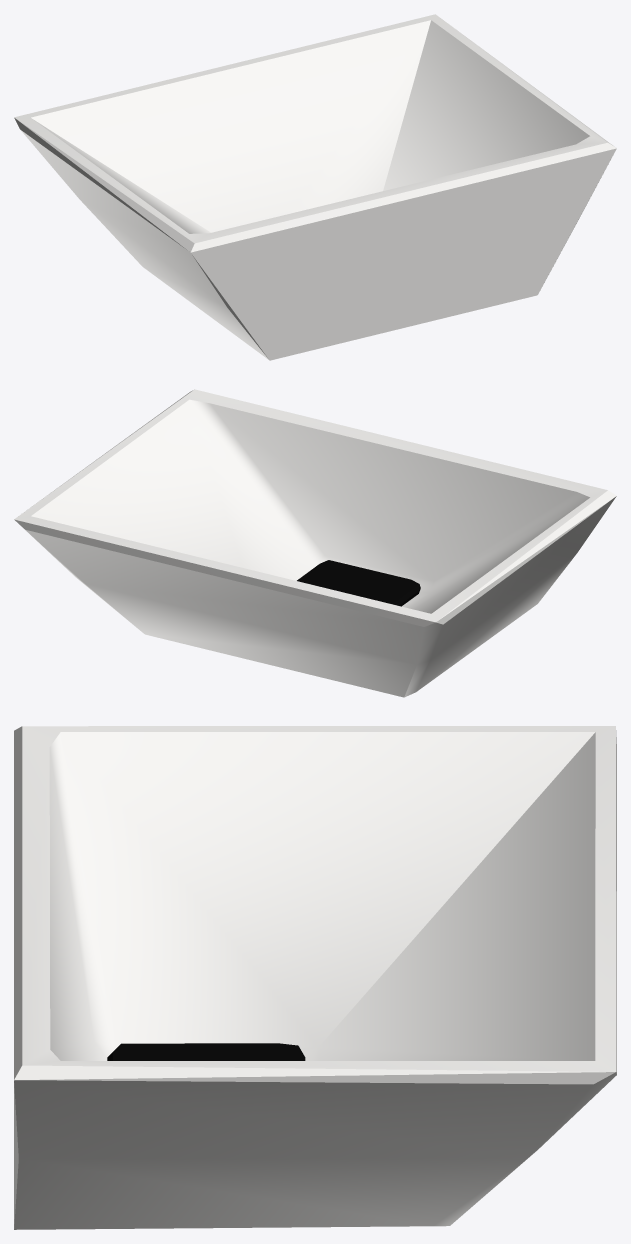
File: SM_WashBasin_1.fbx
3 renders of one model, top to bottom at view 1: azimuth 30°, elevation 25°; view 2: azimuth 150°, elevation 25°; view 3: azimuth 270°, elevation 25°, orthographic. The views are drawn at different scales.
Visible parts, largest first — view 1: SM_WashBajin_1; view 2: SM_WashBajin_1; view 3: SM_WashBajin_1.
Boxes of the visible parts, x1,y1,x2,y2 form: SM_WashBajin_1: (14,14,616,360); SM_WashBajin_1: (14,389,616,697); SM_WashBajin_1: (14,726,616,1229).
Size of the model in its own units: 0.3011 by 0.098 by 0.2193.
2 materials, 1 textured.
